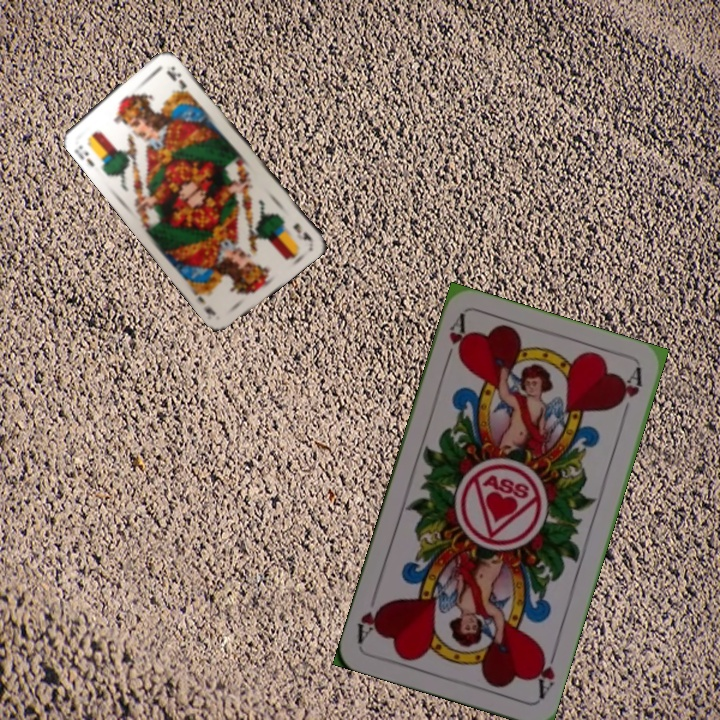EK: (72, 141, 97, 169), (289, 219, 314, 243)
HA: (440, 311, 471, 369), (530, 643, 560, 702)
